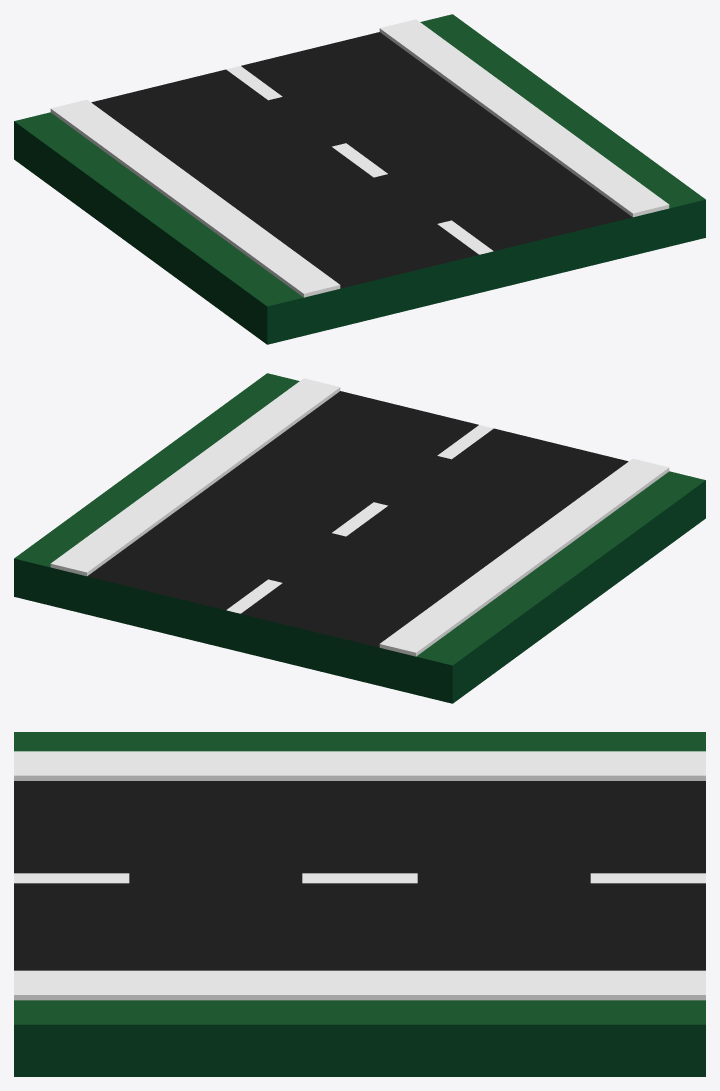
The model's file is straight.glb.
The picture shows the model from 3 angles, top to bottom: view 1: azimuth 30°, elevation 25°; view 2: azimuth 150°, elevation 25°; view 3: azimuth 270°, elevation 25°; orthographic projection. The views are drawn at different scales.
Parts seen in each view (by area): view 1: straightroad; view 2: straightroad; view 3: straightroad.
Boxes of the visible parts, box(x1,y1,x2,y2) form: straightroad: box(14, 14, 705, 344); straightroad: box(14, 373, 705, 703); straightroad: box(14, 732, 705, 1076).
Bounding box in the file's own units: 12 × 1.1 × 12.
1 material, 1 textured.
